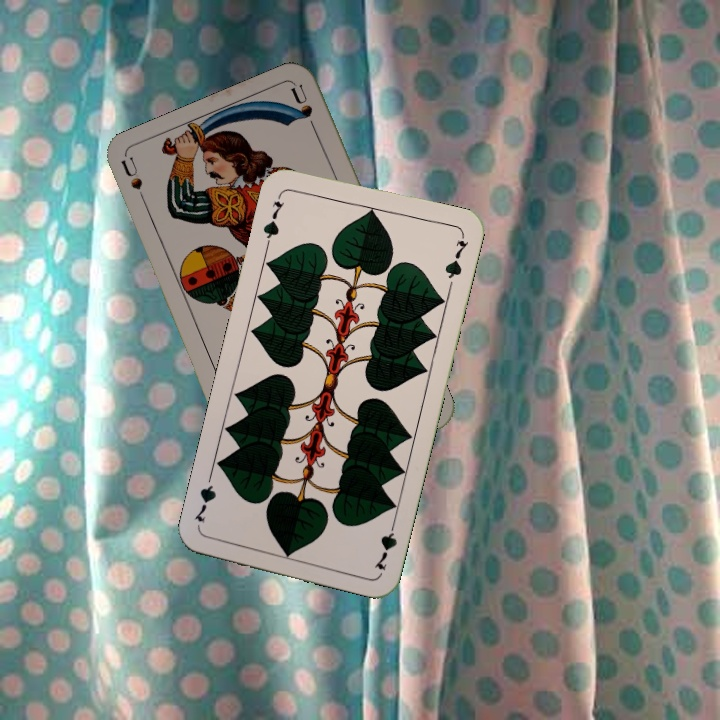G7: (370, 515, 400, 573), (259, 189, 286, 247)
SU: (118, 154, 152, 213)
